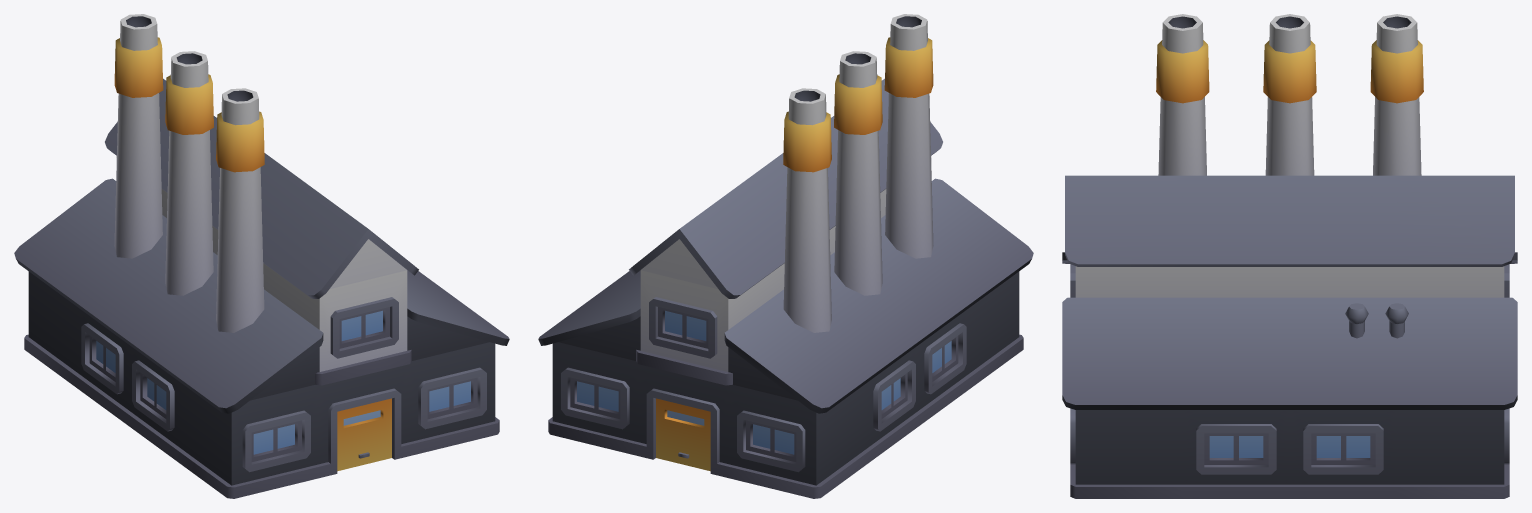
Rendered from works_m.fbx.
The picture shows the model from 3 angles, left to right: view 1: azimuth 30°, elevation 25°; view 2: azimuth 150°, elevation 25°; view 3: azimuth 270°, elevation 25°; orthographic projection. The views are drawn at different scales.
Visible parts, largest first — view 1: building-m; view 2: building-m; view 3: building-m.
Part boxes in pixels (x1,y1,x2,y2): building-m: [14, 14, 509, 498]; building-m: [538, 14, 1033, 498]; building-m: [1062, 14, 1517, 498].
Size of the model in its own units: 0.7743 by 0.8935 by 1.
